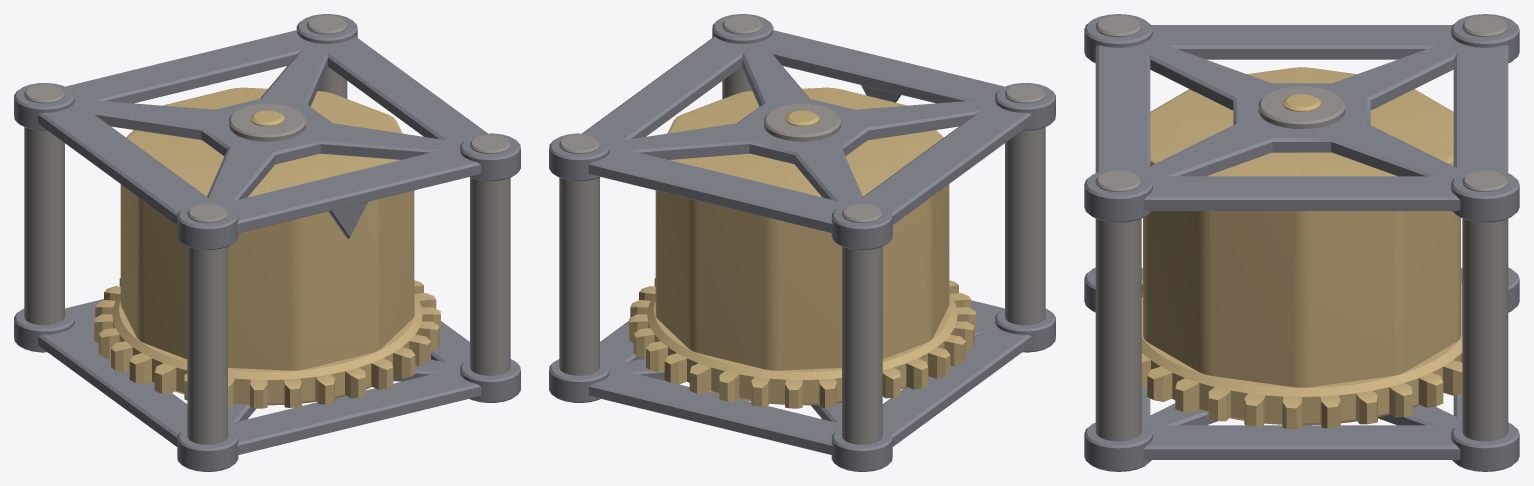
Rendered from MM_GPE_Creep_New.fbx.
The picture shows the model from 3 angles, left to right: view 1: azimuth 30°, elevation 25°; view 2: azimuth 150°, elevation 25°; view 3: azimuth 270°, elevation 25°; orthographic projection. The views are drawn at different scales.
Visible parts, largest first — view 1: cylinder_main, plate_top, plate_bottom, cylinder_fr, cylinder_fl, cylinder_bl, cylinder_middle, cylinder_br; view 2: cylinder_main, plate_top, plate_bottom, cylinder_br, cylinder_bl, cylinder_fl, cylinder_middle, cylinder_fr; view 3: cylinder_main, plate_top, plate_bottom, cylinder_fr, cylinder_br, cylinder_middle, cylinder_fl, cylinder_bl, cylinder_axis.
Part boxes in pixels (<box>): cylinder_main: <box>94,87,440,408</box>; plate_top: <box>14,14,520,249</box>; plate_bottom: <box>14,299,520,471</box>; cylinder_fr: <box>470,134,510,375</box>; cylinder_fl: <box>187,203,227,444</box>; cylinder_bl: <box>24,84,64,325</box>; cylinder_middle: <box>229,103,305,141</box>; cylinder_br: <box>307,15,347,98</box>; cylinder_main: <box>629,87,975,408</box>; plate_top: <box>549,14,1055,249</box>; plate_bottom: <box>549,300,1055,471</box>; cylinder_br: <box>559,134,599,375</box>; cylinder_bl: <box>842,203,882,444</box>; cylinder_fl: <box>1005,84,1045,325</box>; cylinder_middle: <box>764,103,840,141</box>; cylinder_fr: <box>722,15,762,98</box>; cylinder_main: <box>1141,67,1462,428</box>; plate_top: <box>1084,14,1519,222</box>; plate_bottom: <box>1084,267,1519,471</box>; cylinder_fr: <box>1095,170,1141,441</box>; cylinder_br: <box>1462,170,1508,441</box>; cylinder_middle: <box>1258,86,1345,129</box>; cylinder_fl: <box>1095,15,1141,37</box>; cylinder_bl: <box>1462,15,1508,37</box>; cylinder_axis: <box>1282,94,1321,111</box>.
Size of the model in its own units: 1.9 by 1.37 by 1.9.
